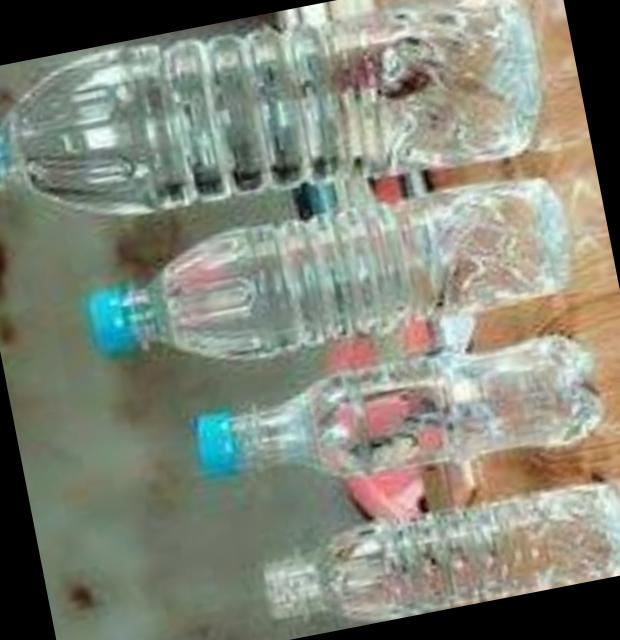plastic: (0, 0, 535, 218), (95, 180, 567, 361), (197, 336, 600, 486), (264, 484, 620, 622)
